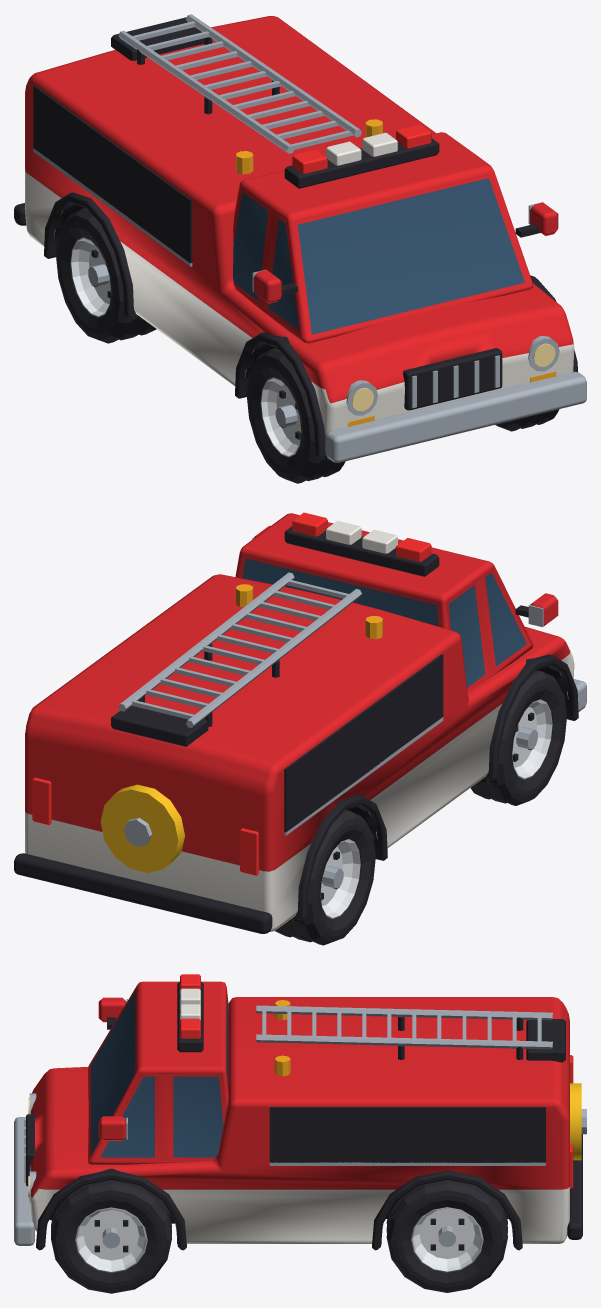
The picture shows the model from 3 angles, top to bottom: view 1: azimuth 30°, elevation 25°; view 2: azimuth 150°, elevation 25°; view 3: azimuth 270°, elevation 25°; orthographic projection. The views are drawn at different scales.
Visible parts, largest first — view 1: fire_body, wheel_RR, wheel_FR, wheel_FL; view 2: fire_body, wheel_FR, wheel_RR; view 3: fire_body, wheel_FL, wheel_RL.
Boxes of the visible parts, x1,y1,x2,y2 form: fire_body: [14, 14, 586, 462]; wheel_RR: [56, 208, 156, 343]; wheel_FR: [246, 348, 345, 483]; wheel_FL: [495, 409, 559, 431]; fire_body: [14, 512, 586, 933]; wheel_FR: [470, 670, 566, 805]; wheel_RR: [275, 810, 375, 945]; fire_body: [14, 974, 586, 1250]; wheel_FL: [51, 1180, 171, 1293]; wheel_RL: [386, 1180, 507, 1292].
Size of the model in its own units: 2.27 by 2.01 by 4.35.
1 material, 1 textured.
